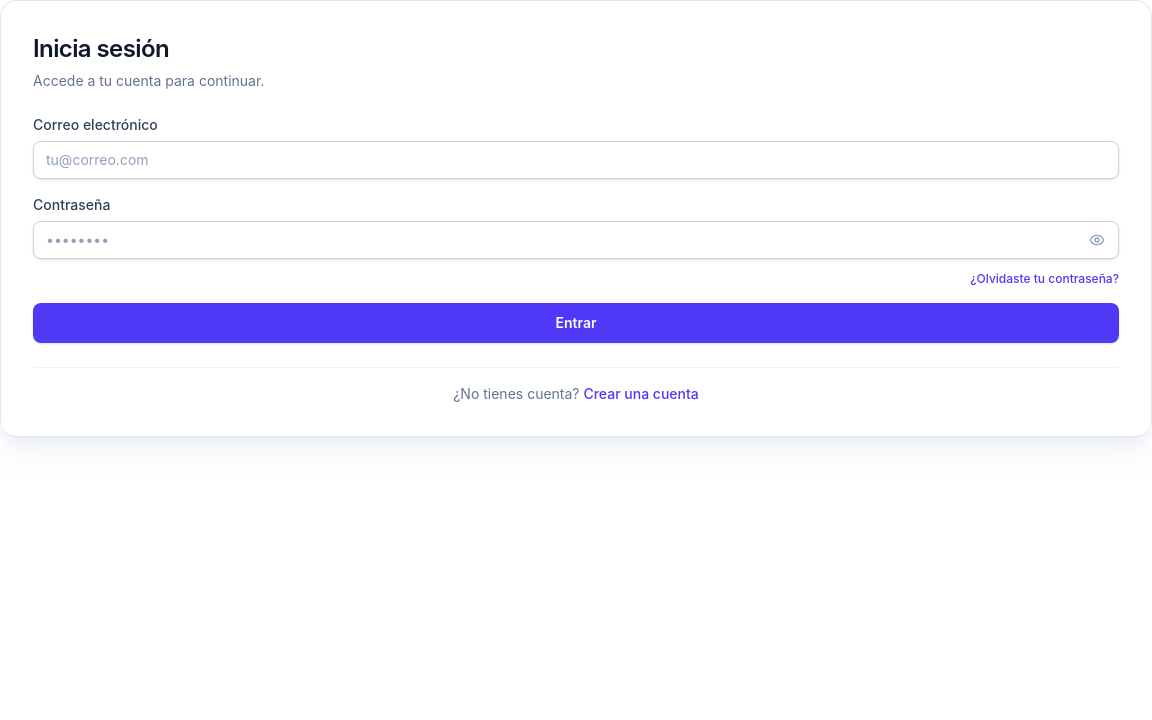
Test: LoginPage › traduce el error de credenciales incorrectas
Type "ana@example.com" into the field labelled "Correo electrónico" at (576, 160), box [33,141,1119,179]
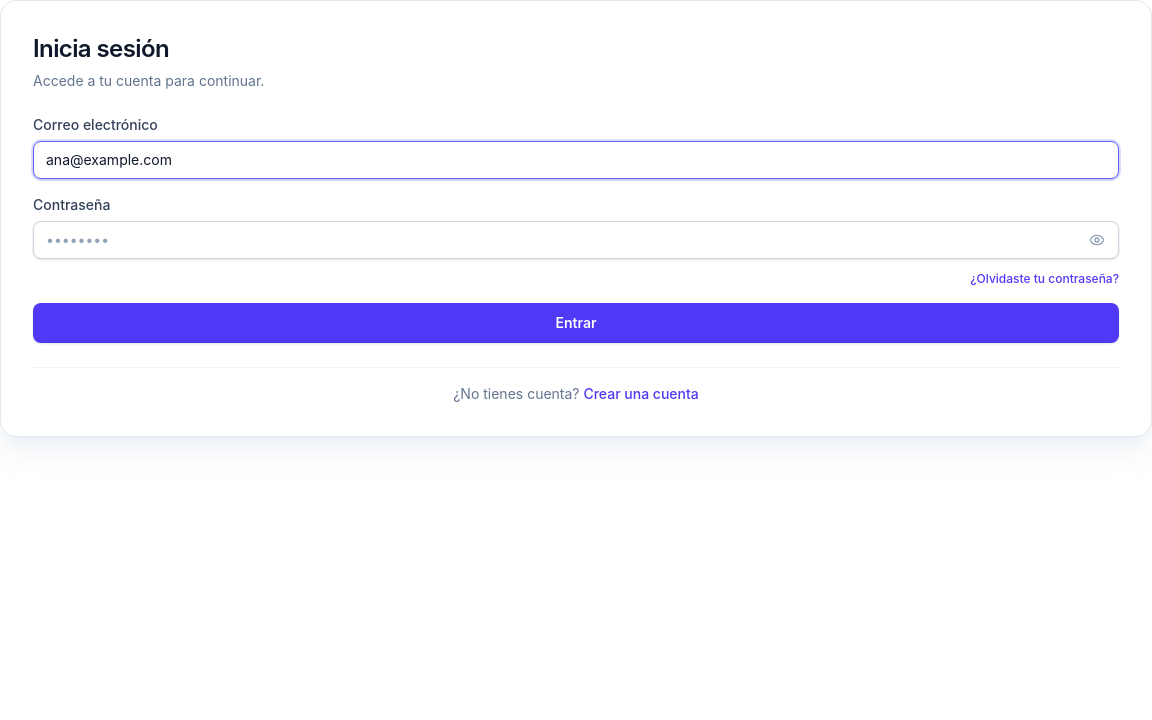
Type "incorrecta" into the password field labelled "Contraseña" at (576, 240), box [33,221,1119,259]
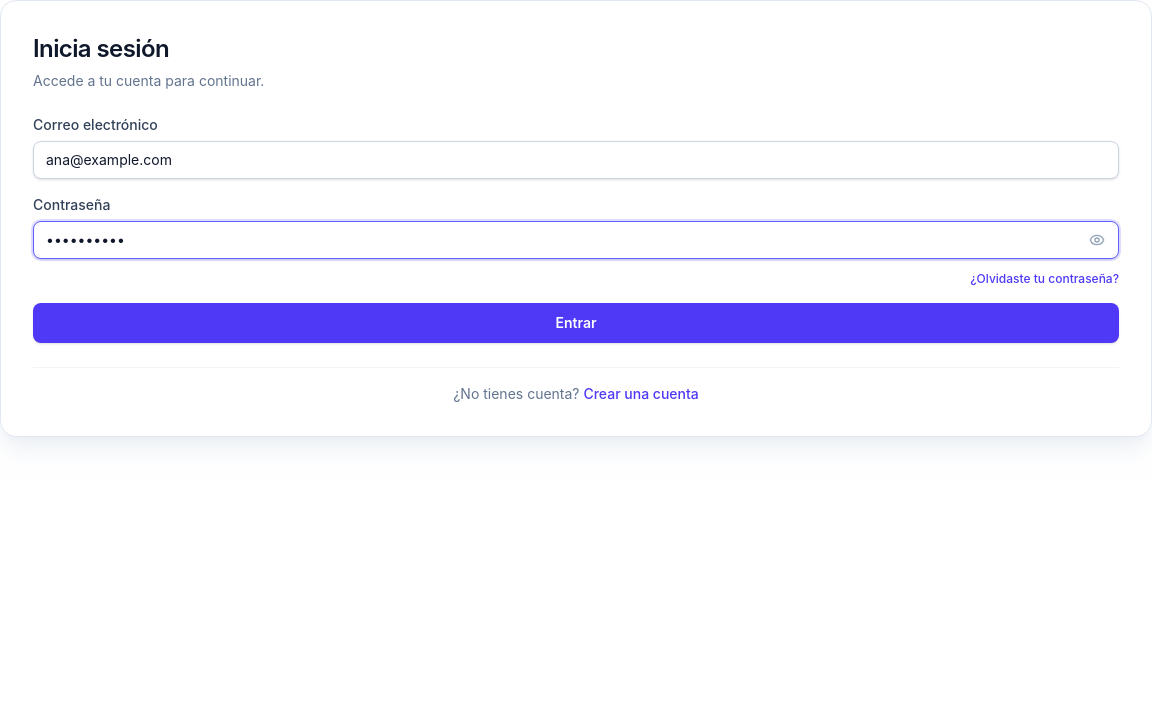
Click the button "Entrar" at (576, 323), box [33,303,1119,343]
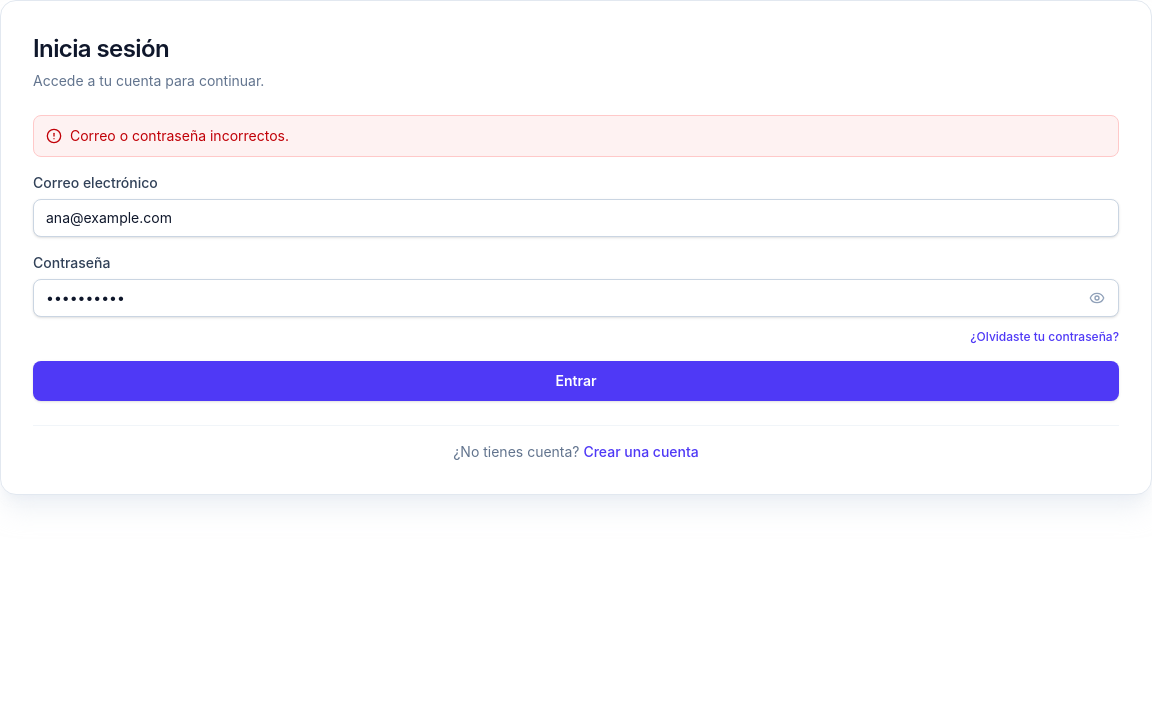
expect the text "Correo o contraseña incorrectos." is shown: met, box [70,126,289,146]
